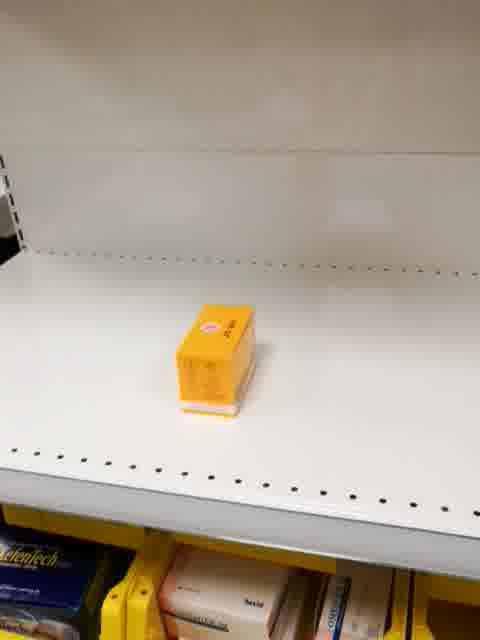jasminetea: (176, 300, 256, 418)
